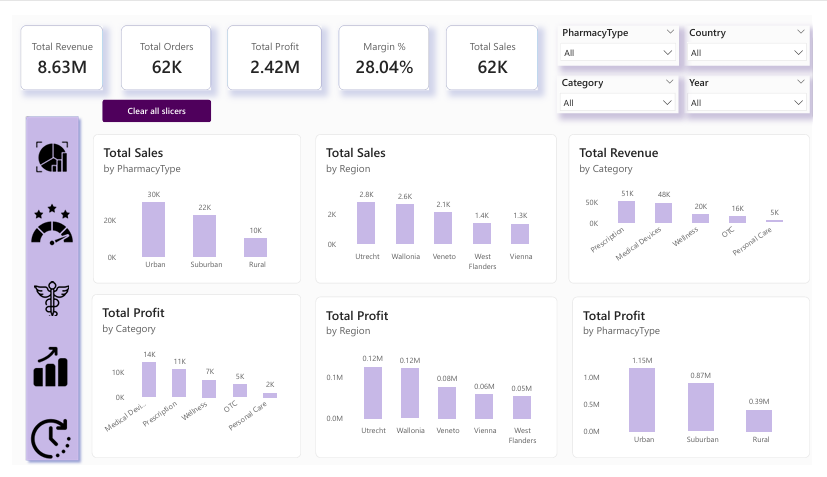

What the dashboard file says about the page in this screenshot:
{"tool":"powerbi","page":{"name":"Sales Analysis","canvas":[1280,720],"ordinal":3},"visuals":[{"type":"cardVisual","fields":{"Data":["FactSales.Total Revenue"]},"box":[12.3,15.1,131.7,104.3],"z":0},{"type":"cardVisual","fields":{"Data":["FactSales.Total Orders"]},"box":[172.9,15.1,144.1,104.3],"z":1000},{"type":"cardVisual","fields":{"Data":["FactSales.Margin %"]},"box":[521.4,15.1,144.1,104.3],"z":2000},{"type":"cardVisual","fields":{"Data":["FactSales.Total Profit"]},"box":[343.1,15.1,150.9,104.3],"z":3000},{"type":"cardVisual","fields":{"Data":["FactSales.Total Sales"]},"box":[693,15.1,146.8,104.3],"z":4000},{"type":"columnChart","fields":{"Category":["DimProduct.Category"],"Y":["FactSales.Total Revenue"]},"box":[889.2,189.4,385.6,238.8],"z":5000},{"type":"columnChart","fields":{"Category":["DimPharmacy.Region"],"Y":["FactSales.Total Profit"]},"box":[484.4,448.7,387,258],"z":6000},{"type":"columnChart","fields":{"Category":["DimPharmacy.PharmacyType"],"Y":["FactSales.Total Sales"]},"box":[127.6,189.4,333.4,238.8],"z":7000},{"type":"columnChart","fields":{"Category":["DimPharmacy.PharmacyType"],"Y":["FactSales.Total Profit"]},"box":[894.7,448.7,380.1,258],"z":8000},{"type":"columnChart","fields":{"Category":["DimPharmacy.Region"],"Y":["FactSales.Total Sales"]},"box":[484.4,189.4,385.6,238.8],"z":9000},{"type":"columnChart","fields":{"Category":["DimProduct.Category"],"Y":["FactSales.Total Profit"]},"box":[126.2,444.6,334.8,262.1],"z":10000},{"type":"actionButton","box":[142.7,134.5,174.3,35.7],"z":11000},{"type":"slicer","fields":{"Values":["DimPharmacy.PharmacyType"]},"box":[871.4,15.1,194.9,64.5],"z":12000},{"type":"slicer","fields":{"Values":["DimDate.Date.Variation.Date Hierarchy.Year"]},"box":[1074.4,94.7,200.3,61.7],"z":13000},{"type":"slicer","fields":{"Values":["DimProduct.Category"]},"box":[870,94.7,194.9,61.7],"z":14000},{"type":"slicer","fields":{"Values":["DimPharmacy.Country"]},"box":[1074.4,15.1,200.3,64.5],"z":15000},{"type":"group","id":"g1","title":"Group 1","box":[12.3,152.3,101.5,568.1],"z":16000},{"type":"shape","box":[12.3,152.3,101.5,568.1],"z":16500,"group":"g1"},{"type":"image","box":[26.8,294.7,71.5,78],"z":17005,"group":"g1"},{"type":"image","box":[25.8,642.4,70.5,68.4],"z":17505,"group":"g1"},{"type":"image","box":[35.1,405.5,56,95.8],"z":18005,"group":"g1"},{"type":"image","box":[34.1,183.8,57,83.5],"z":18505,"group":"g1"},{"type":"image","box":[24.7,524.6,71.5,73.9],"z":19005,"group":"g1"}]}

Visuals, with their boxes in screenshot pixels (x1, y1, x2, y2), scaled from the page's 1280x720 canvas onto the 827x477 screenshot:
cardVisual - FactSales.Total Revenue: 8,10,93,79
cardVisual - FactSales.Total Orders: 112,10,205,79
cardVisual - FactSales.Margin %: 337,10,430,79
cardVisual - FactSales.Total Profit: 222,10,319,79
cardVisual - FactSales.Total Sales: 448,10,543,79
columnChart - DimProduct.Category x FactSales.Total Revenue: 575,125,824,284
columnChart - DimPharmacy.Region x FactSales.Total Profit: 313,297,563,468
columnChart - DimPharmacy.PharmacyType x FactSales.Total Sales: 82,125,298,284
columnChart - DimPharmacy.PharmacyType x FactSales.Total Profit: 578,297,824,468
columnChart - DimPharmacy.Region x FactSales.Total Sales: 313,125,562,284
columnChart - DimProduct.Category x FactSales.Total Profit: 82,295,298,468
actionButton: 92,89,205,113
slicer - DimPharmacy.PharmacyType: 563,10,689,53
slicer - DimDate.Date.Variation.Date Hierarchy.Year: 694,63,824,104
slicer - DimProduct.Category: 562,63,688,104
slicer - DimPharmacy.Country: 694,10,824,53
"Group 1" group: 8,101,74,476
shape: 8,101,74,476
image: 17,195,64,247
image: 17,426,62,471
image: 23,269,59,332
image: 22,122,59,177
image: 16,348,62,397
